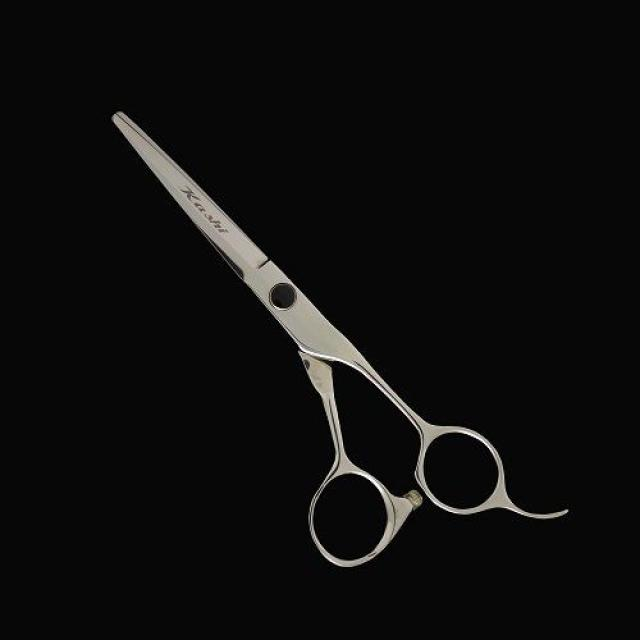Gunting: (88, 82, 588, 589)
